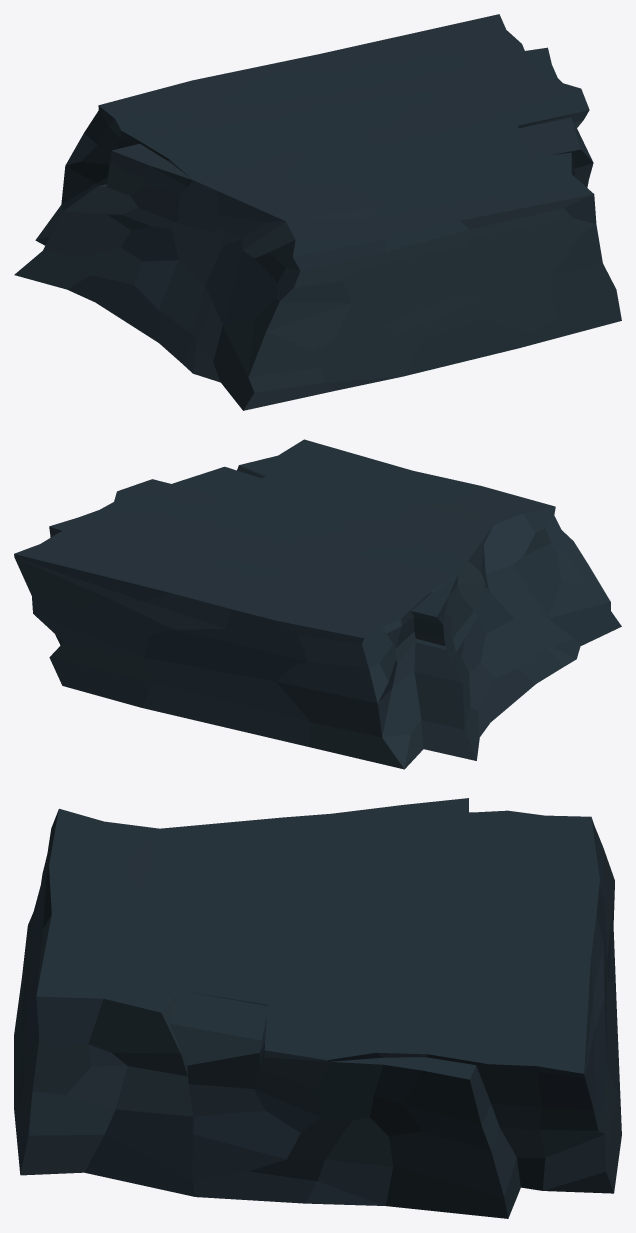
The model's file is Ground_dark_grey.fbx.
The picture shows the model from 3 angles, top to bottom: view 1: azimuth 30°, elevation 25°; view 2: azimuth 150°, elevation 25°; view 3: azimuth 270°, elevation 25°; orthographic projection. The views are drawn at different scales.
Parts seen in each view (by area): view 1: Cliff_U.002; view 2: Cliff_U.002; view 3: Cliff_U.002.
Part boxes in pixels (left/top/right/bottom): Cliff_U.002: left=14, top=14, right=621, bottom=410; Cliff_U.002: left=14, top=439, right=621, bottom=769; Cliff_U.002: left=14, top=798, right=621, bottom=1218.
Size of the model in its own units: 17697 by 4305 by 14132.
